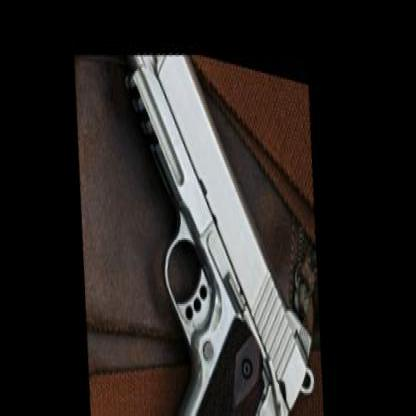pistol: (96, 23, 337, 414)
